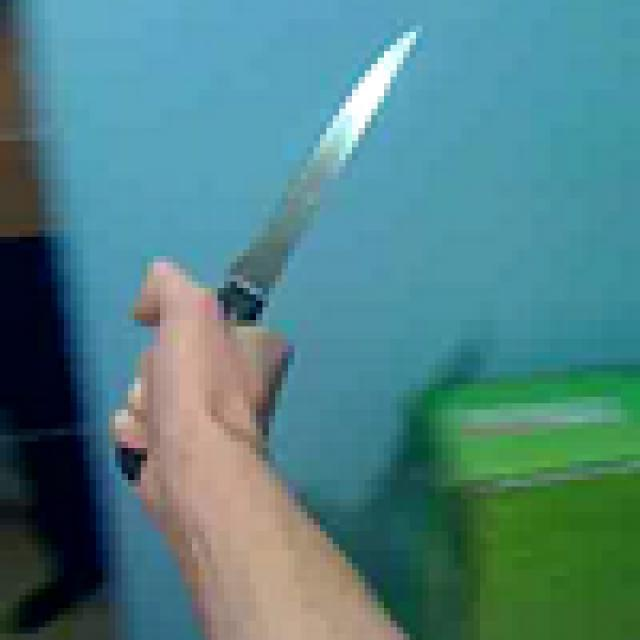Knife: (122, 6, 467, 486)
